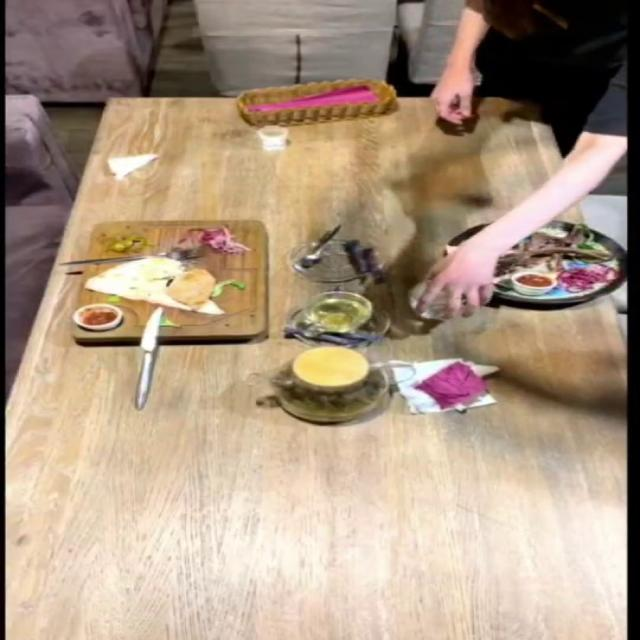meat: (466, 202, 608, 338)
tea: (272, 348, 440, 467)
